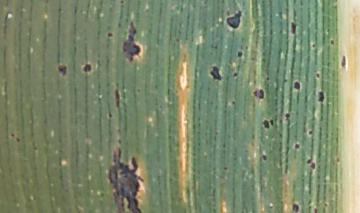tarspot: (106, 147, 145, 213), (120, 20, 141, 62), (225, 9, 243, 30), (208, 65, 223, 82), (56, 63, 69, 77), (252, 87, 265, 101), (113, 87, 121, 109), (288, 20, 297, 37), (316, 89, 325, 104), (339, 53, 347, 69), (292, 79, 301, 92), (81, 63, 92, 73), (291, 202, 300, 213), (106, 109, 114, 121), (261, 118, 269, 129), (309, 161, 317, 171), (293, 141, 301, 151), (210, 42, 219, 50), (236, 49, 243, 59), (14, 135, 22, 143), (106, 31, 114, 39), (268, 118, 275, 127), (284, 112, 291, 121), (264, 74, 271, 83), (329, 38, 335, 47), (261, 153, 267, 162), (72, 5, 78, 14), (310, 42, 317, 49), (314, 72, 321, 79), (307, 129, 314, 136), (232, 71, 238, 79), (9, 131, 15, 138), (221, 165, 228, 171), (325, 27, 331, 34), (116, 138, 121, 146), (335, 156, 340, 164), (312, 207, 318, 213), (230, 99, 236, 105), (135, 87, 141, 93), (243, 44, 249, 50), (323, 202, 328, 209), (202, 1, 209, 6), (119, 1, 125, 5)
